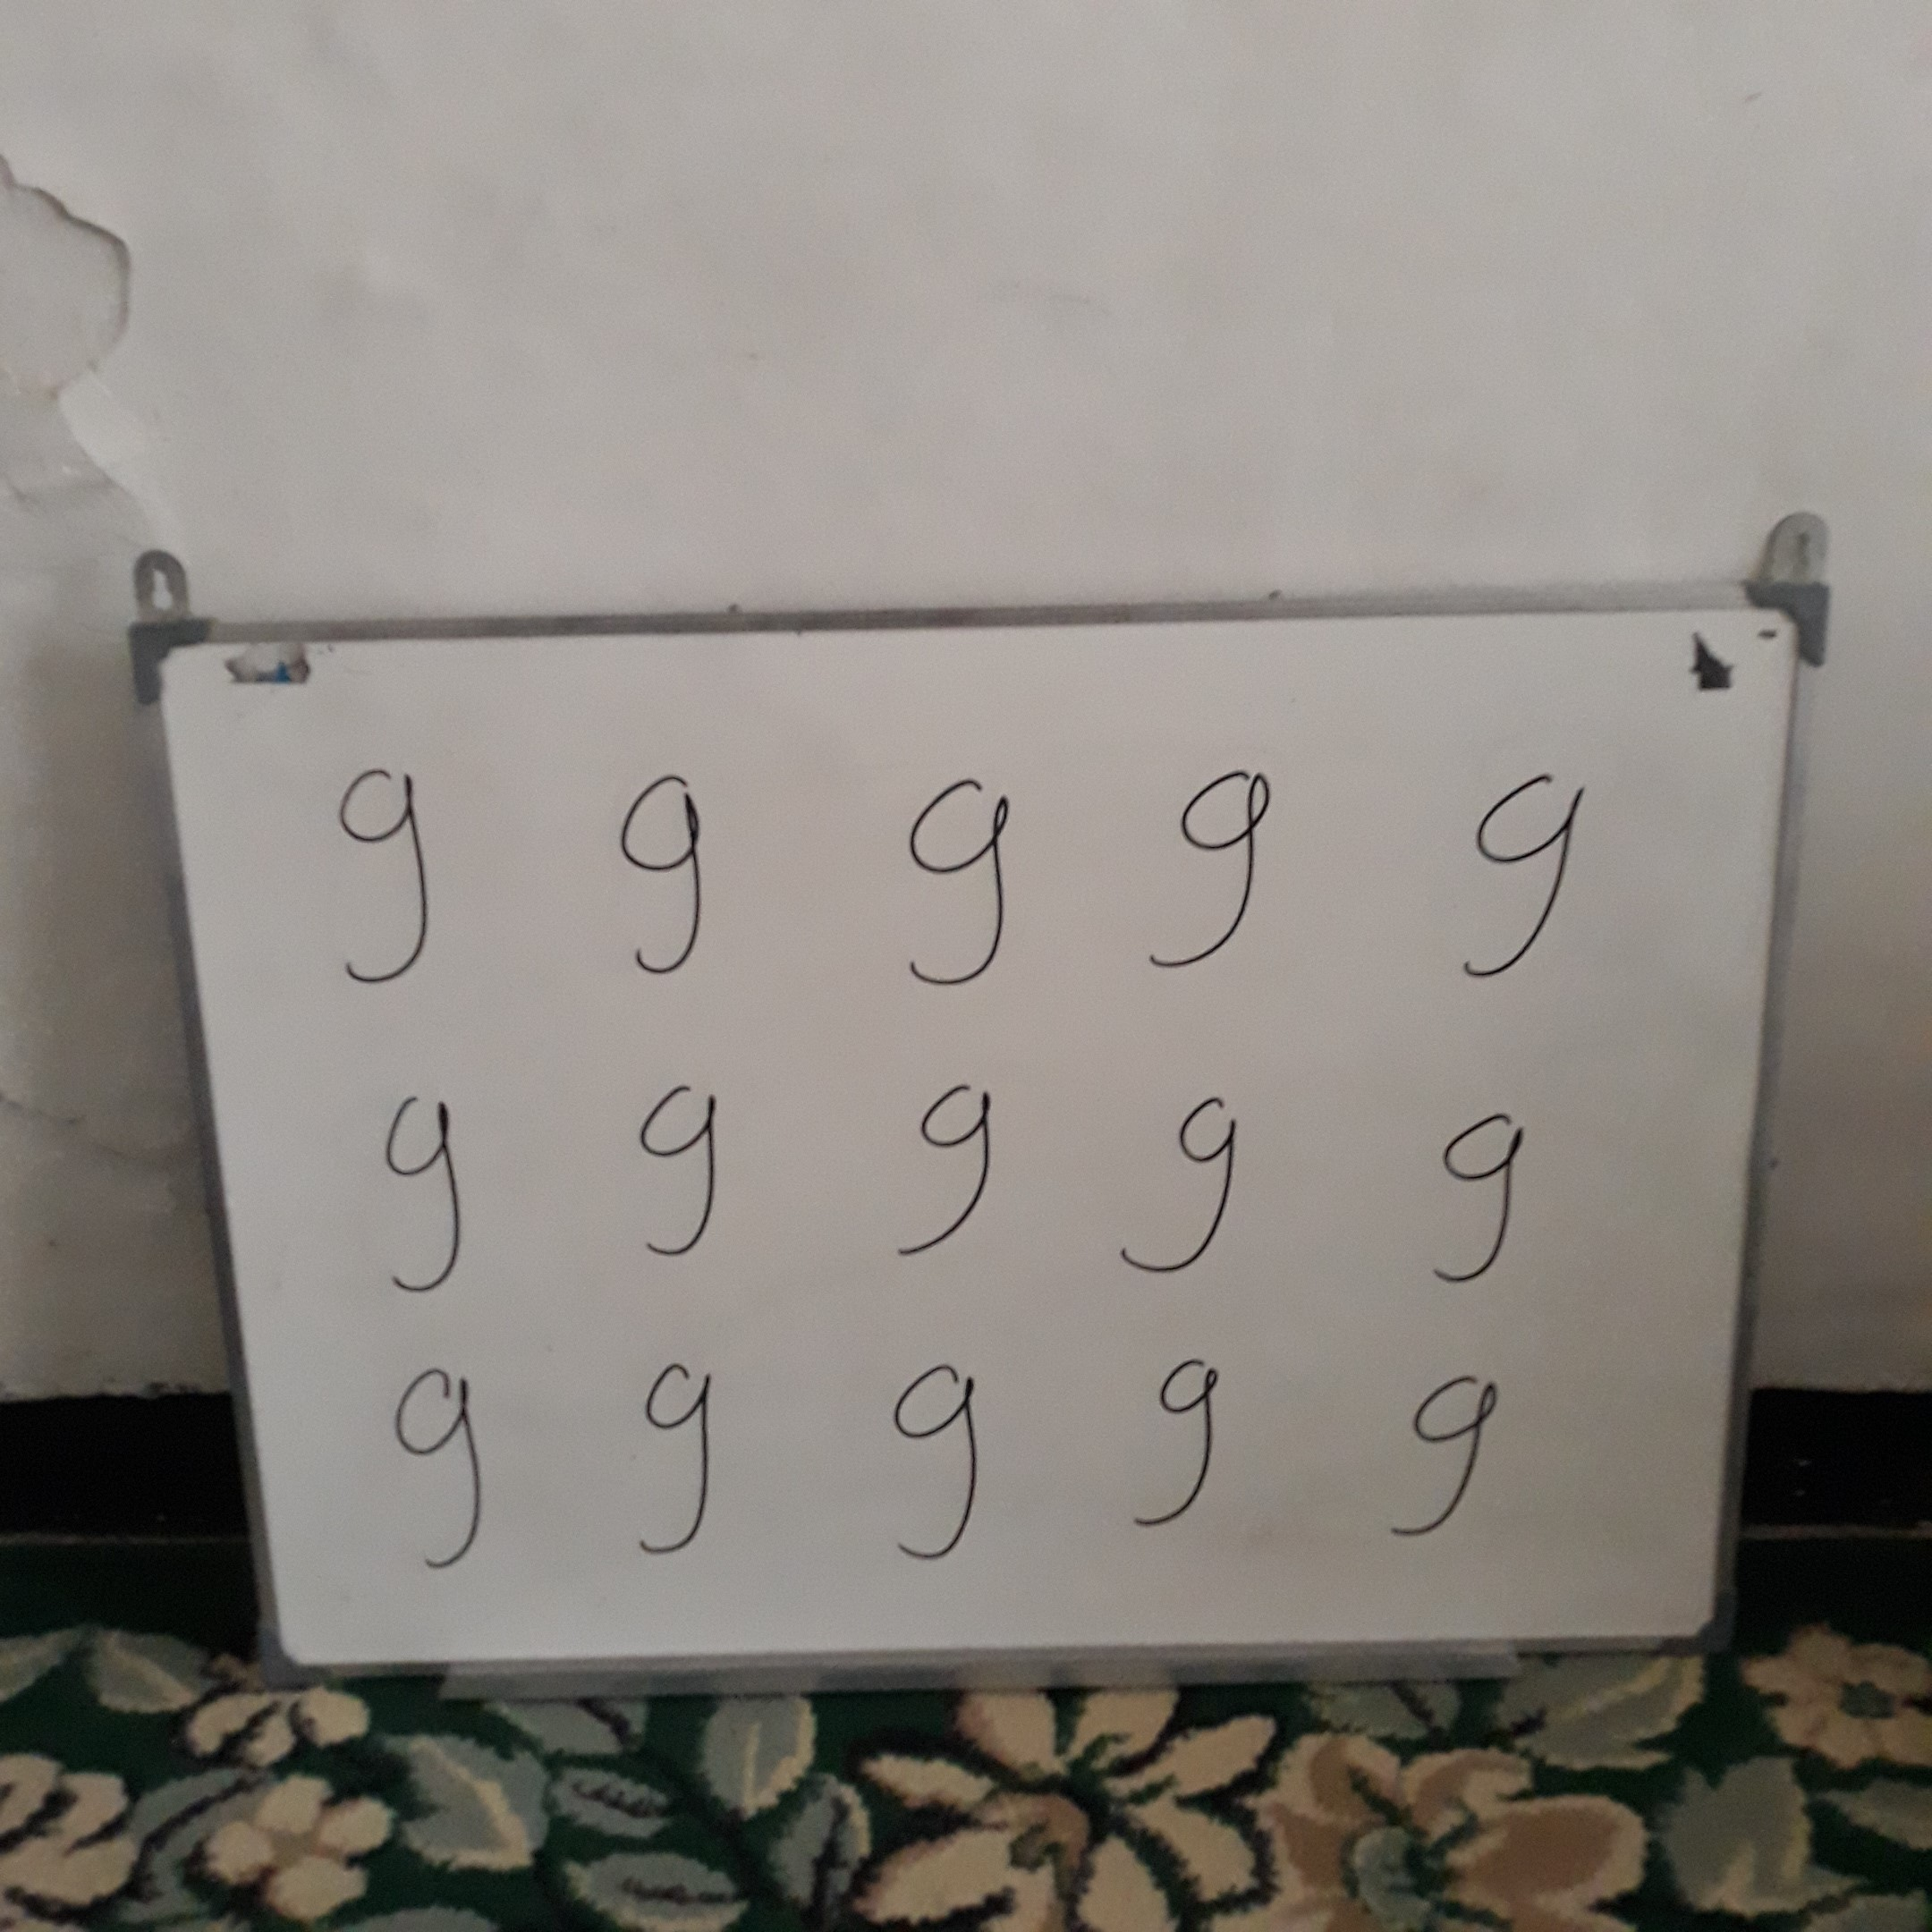num9: (1424, 750, 1601, 994), (306, 746, 461, 1026), (1393, 1091, 1575, 1320), (874, 756, 1033, 1014), (1126, 744, 1290, 994), (602, 1350, 762, 1577), (375, 1356, 528, 1585), (1107, 1080, 1269, 1292), (598, 750, 727, 1000), (612, 1067, 755, 1275), (884, 1348, 1003, 1583), (362, 1080, 479, 1313), (889, 1069, 1021, 1274), (1376, 1372, 1517, 1551), (1120, 1352, 1241, 1555)
